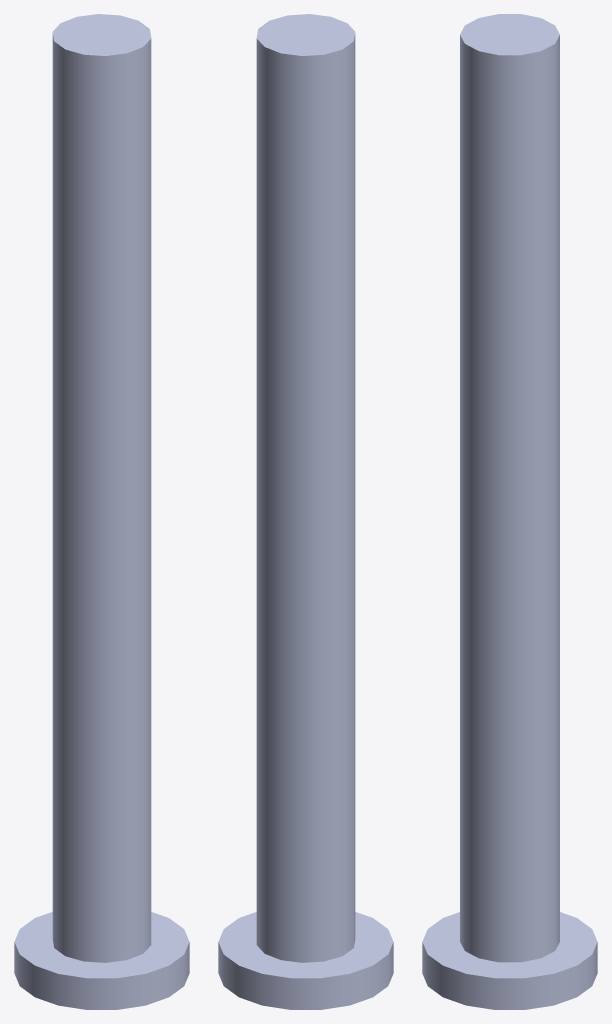
The model's file is leg_left_krs__M2x20_case_tapping_1.dae.
3 views of the same model, side by side, from view 1: azimuth 30°, elevation 25°; view 2: azimuth 150°, elevation 25°; view 3: azimuth 270°, elevation 25° (orthographic).
Visible parts, largest first — view 1: node0; view 2: node0; view 3: node0.
Boxes of the visible parts, x1=… form: node0: x1=14, y1=14, x2=189, y2=1009; node0: x1=218, y1=14, x2=393, y2=1009; node0: x1=422, y1=14, x2=597, y2=1009.
Size of the model in its own units: 0.00345 by 0.0207 by 0.0035.
